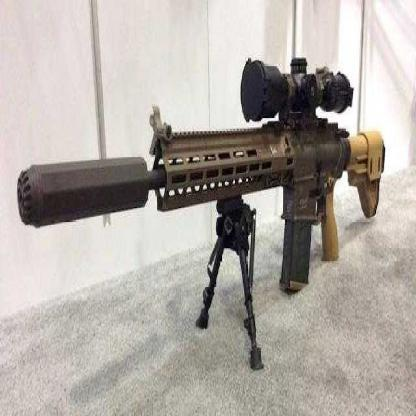Heavy Gun: (35, 68, 383, 293)
